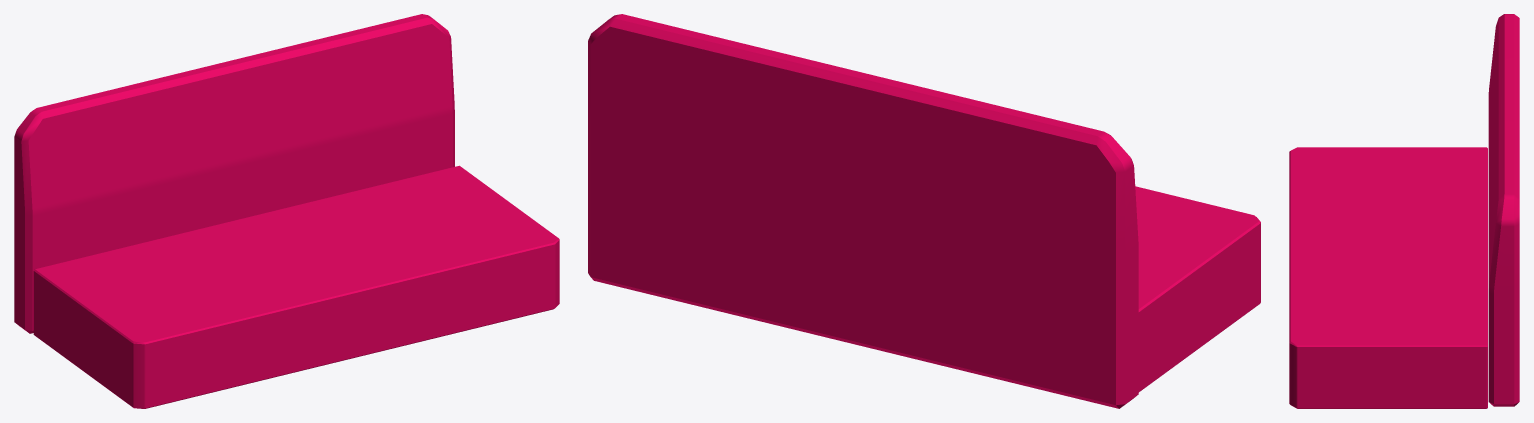
The model's file is Sofa_04_Lod0.fbx.
The picture shows the model from 3 angles, left to right: view 1: azimuth 30°, elevation 25°; view 2: azimuth 150°, elevation 25°; view 3: azimuth 270°, elevation 25°; orthographic projection. The views are drawn at different scales.
Visible parts, largest first — view 1: Sofa_04_Lod0; view 2: Sofa_04_Lod0; view 3: Sofa_04_Lod0.
Boxes of the visible parts, box(x1,y1,x2,y2) form: Sofa_04_Lod0: box(14, 14, 559, 408); Sofa_04_Lod0: box(588, 14, 1260, 408); Sofa_04_Lod0: box(1289, 14, 1519, 408).
Size of the model in its own units: 248 by 117 by 120.
